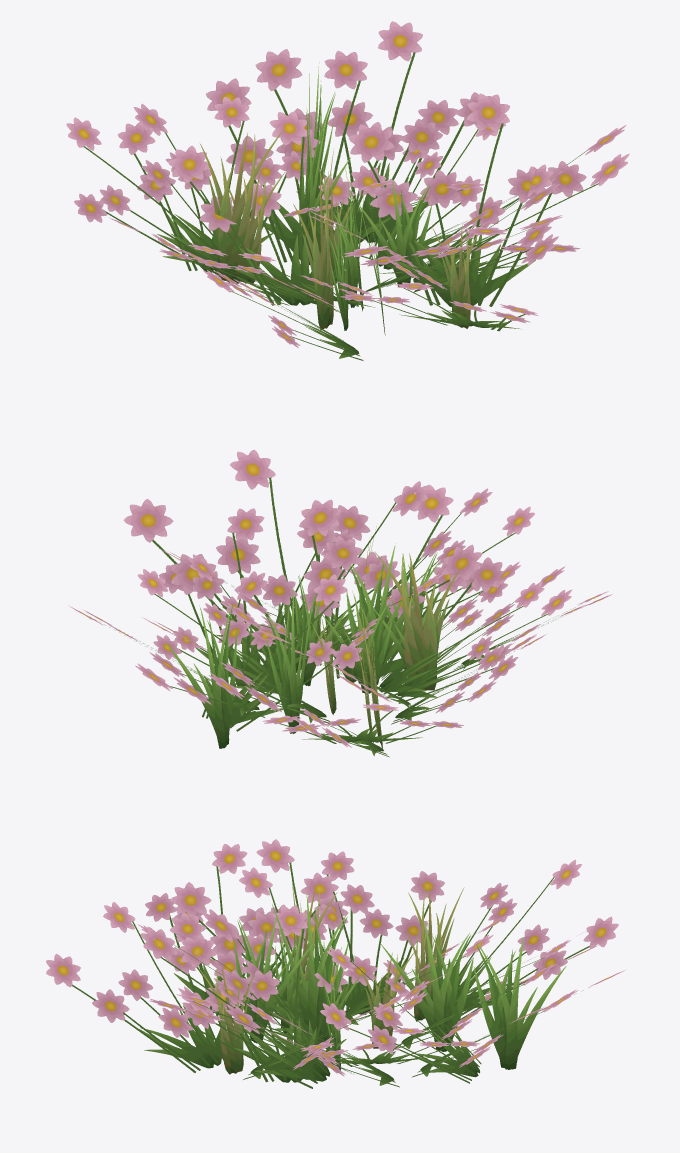
The model's file is flowers_b.glb.
3 views of the same model, one above another, from view 1: azimuth 30°, elevation 25°; view 2: azimuth 150°, elevation 25°; view 3: azimuth 270°, elevation 25° (orthographic). The views are drawn at different scales.
Visible parts, largest first — view 1: flowers, leaves; view 2: flowers, leaves; view 3: flowers, leaves.
Boxes of the visible parts, x1,y1,x2,y2 form: flowers: (66,21,629,360); leaves: (200,62,477,335); flowers: (68,449,613,757); leaves: (166,526,459,748); flowers: (46,839,624,1088); leaves: (197,883,566,1074).
Bounding box in the file's own units: 1.06 × 0.3301 × 1.21.
2 materials, 2 textured.
